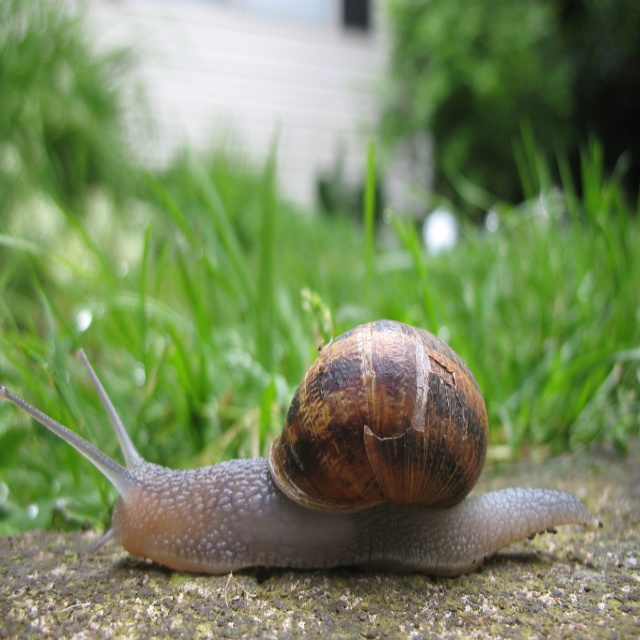Snail: (0, 315, 598, 582)
